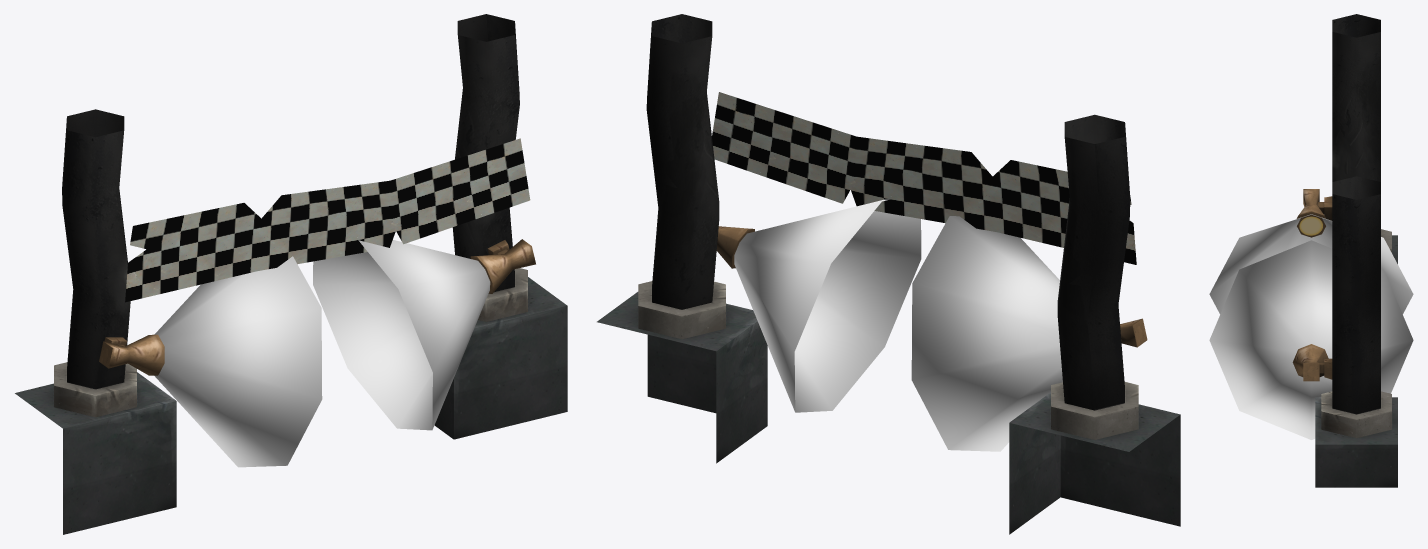
Rendered from finish.fbx.
The picture shows the model from 3 angles, left to right: view 1: azimuth 30°, elevation 25°; view 2: azimuth 150°, elevation 25°; view 3: azimuth 270°, elevation 25°; orthographic projection. The views are drawn at different scales.
Visible parts, largest first — view 1: light, finish_stand, banner, column, column_stand, lamp; view 2: light, column, finish_stand, banner, column_stand, lamp; view 3: light, column, finish_stand, column_stand, lamp, lamp_holder.
Boxes of the visible parts, <box> form: light: <box>154,240,490,467</box>; finish_stand: <box>15,277,567,534</box>; banner: <box>125,138,530,302</box>; column: <box>62,14,519,389</box>; column_stand: <box>54,268,527,417</box>; lamp: <box>99,239,535,375</box>; light: <box>734,199,1062,451</box>; column: <box>646,14,1130,410</box>; finish_stand: <box>597,292,1180,534</box>; banner: <box>712,92,1136,264</box>; column_stand: <box>638,281,1138,439</box>; lamp: <box>716,226,1147,347</box>; light: <box>1209,214,1413,439</box>; column: <box>1332,14,1380,414</box>; finish_stand: <box>1315,235,1397,487</box>; column_stand: <box>1321,229,1391,438</box>; lamp: <box>1292,189,1328,381</box>; lamp_holder: <box>1316,196,1332,379</box>.
Bounding box in the file's own units: 28.38 × 20.43 × 11.69.
